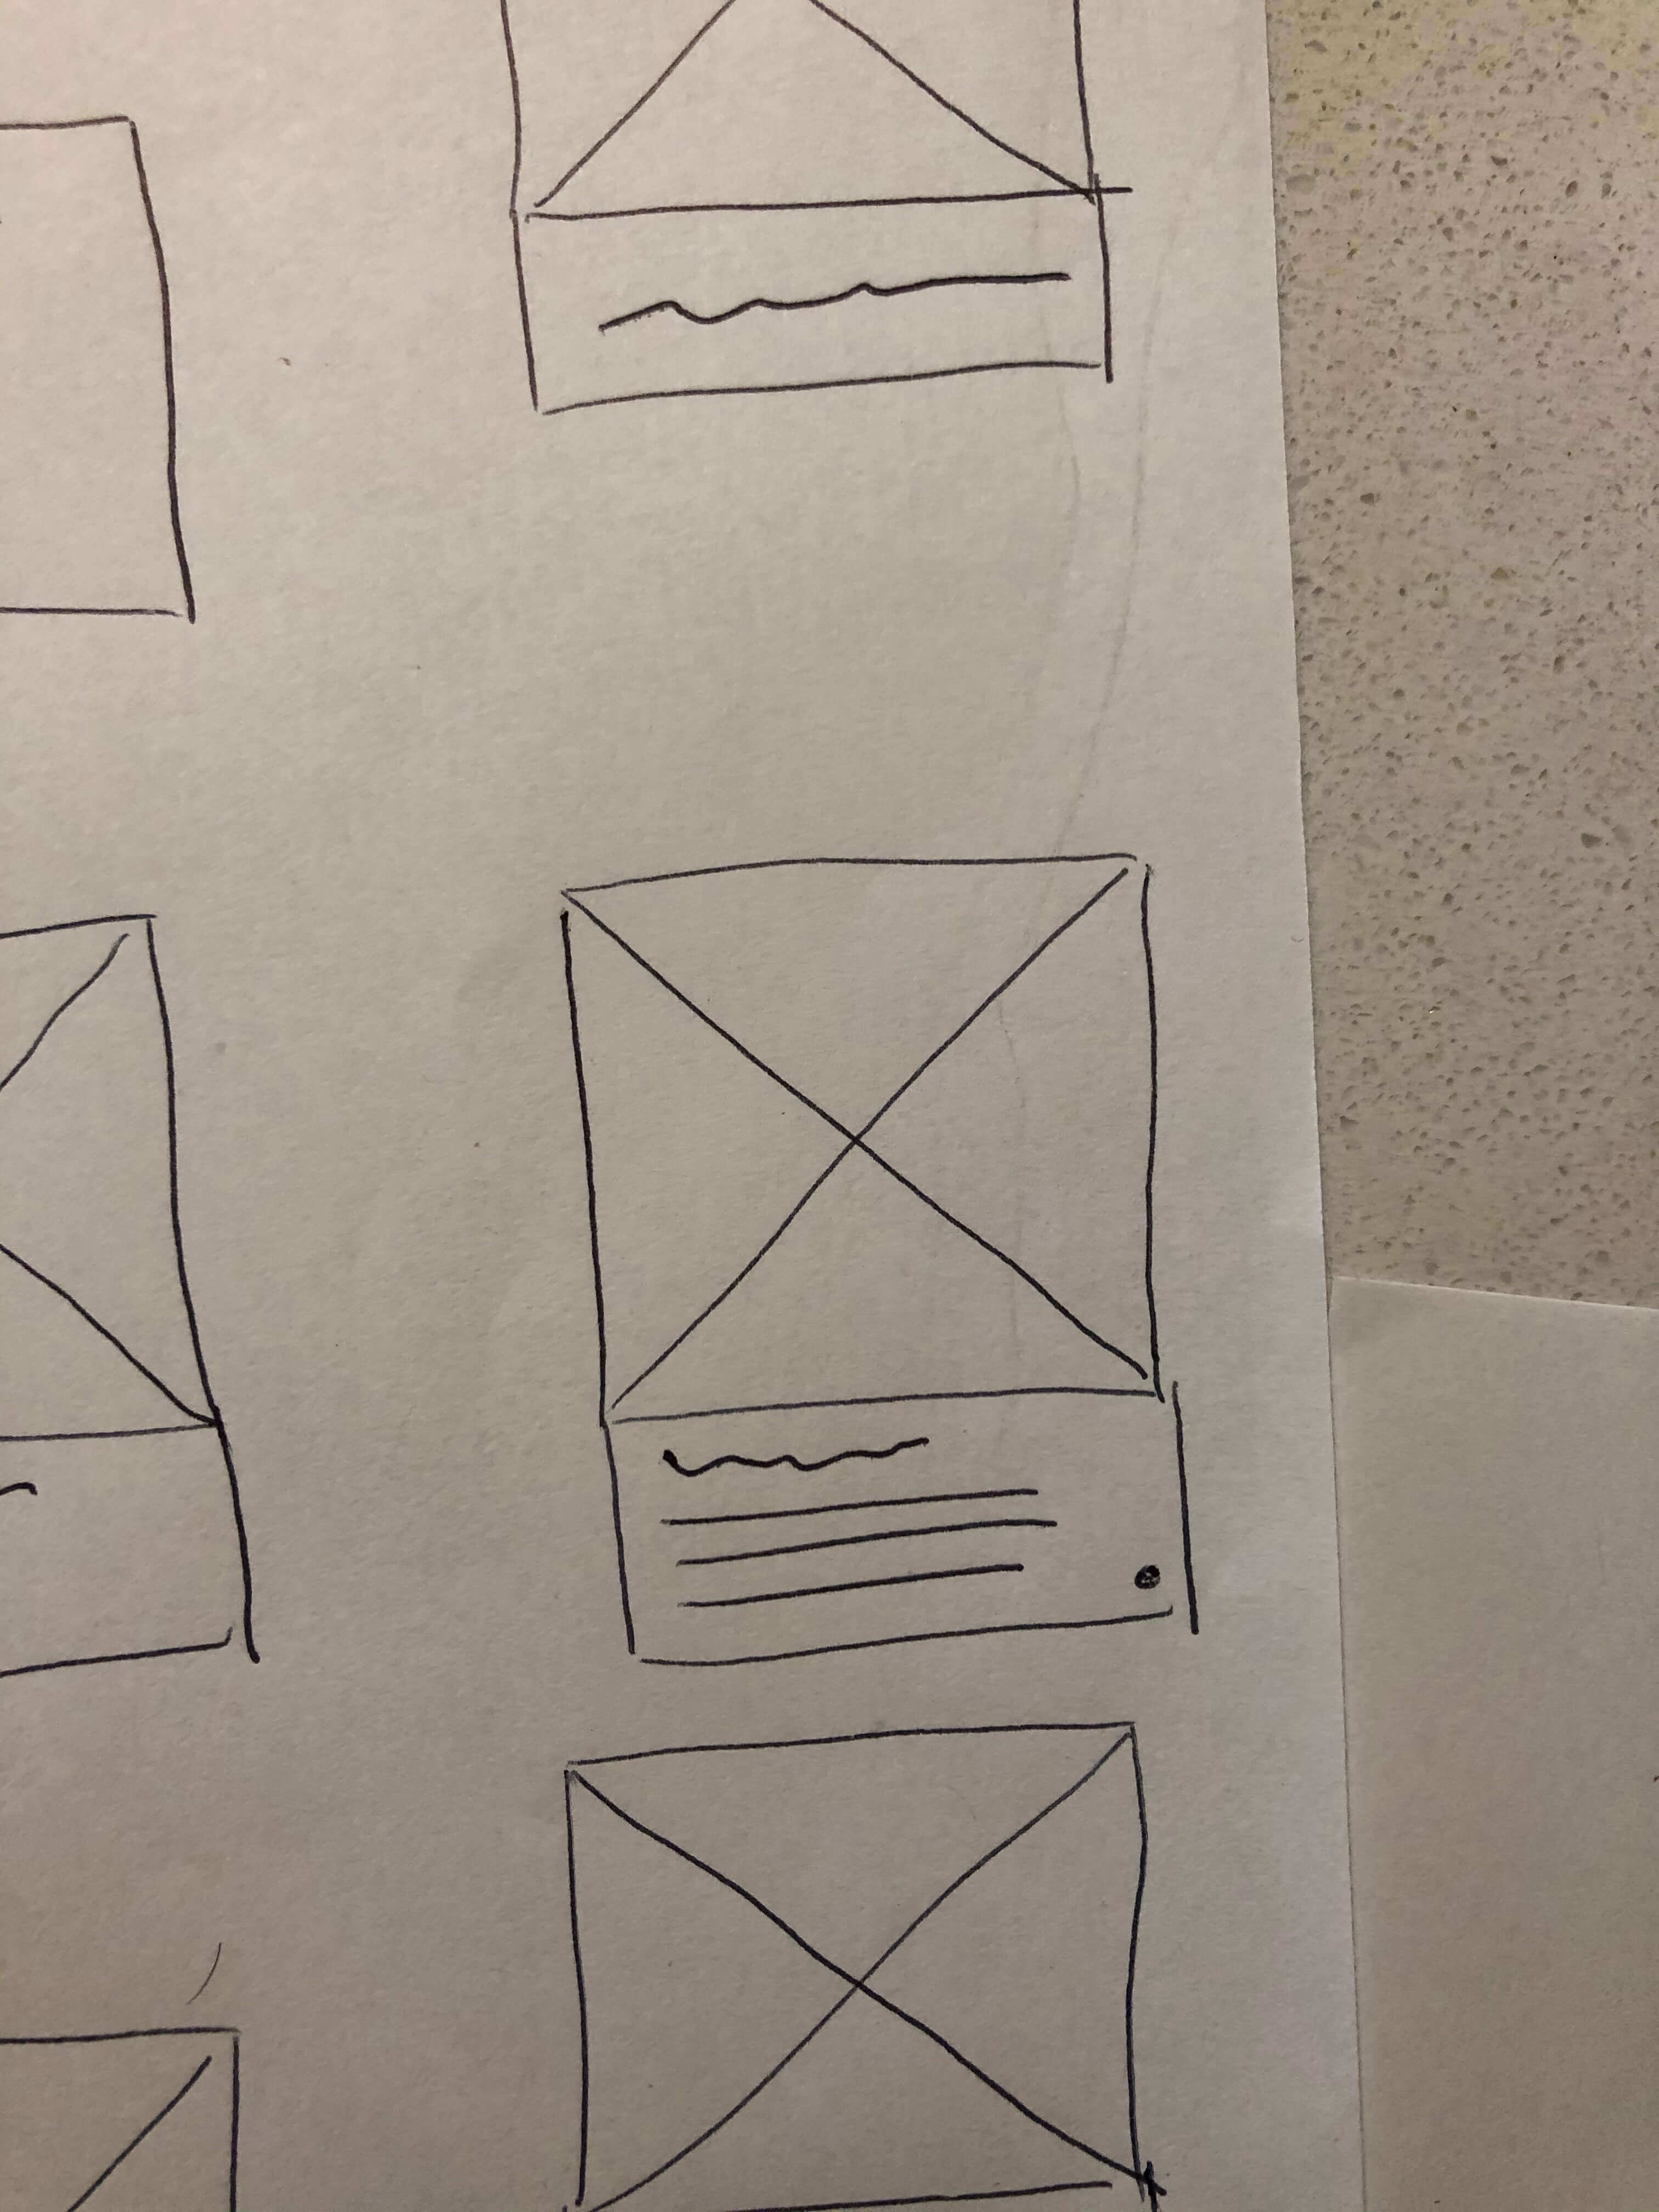card: (540, 846, 1223, 1684)
